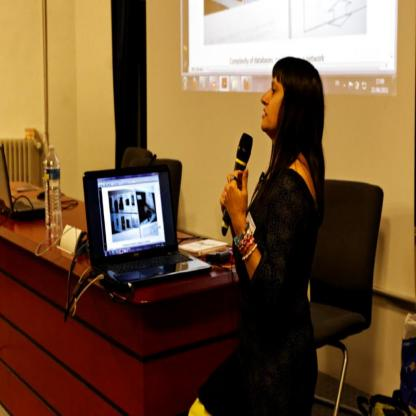board: (89, 153, 179, 282), (44, 143, 64, 235)
